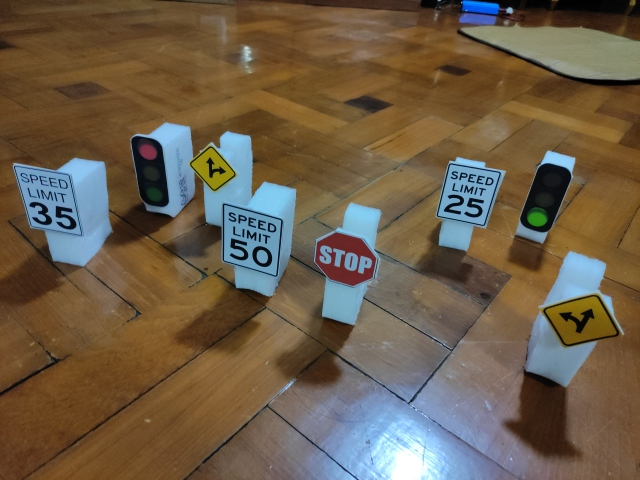Green Traffic Light: (519, 162, 573, 231)
Red Traffic Light: (129, 134, 170, 208)
Speed Limit 25: (436, 162, 503, 227)
Speed Limit 35: (11, 162, 84, 236)
Speed Limit 50: (221, 202, 284, 277)
Stop Sign: (314, 230, 379, 286)
Straight Or Left Sign: (541, 291, 623, 348)
Straight Or Right Sign: (190, 146, 237, 190)
